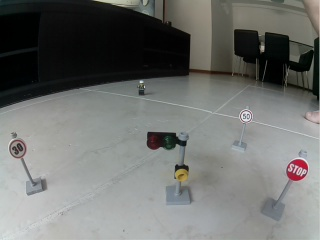Person: (136, 80, 146, 95)
Red Traffic Light: (146, 131, 192, 206)
Speed Limit 30: (8, 139, 26, 159)
Speed Limit 50: (238, 109, 253, 124)
Stop Sign: (285, 158, 309, 182)
